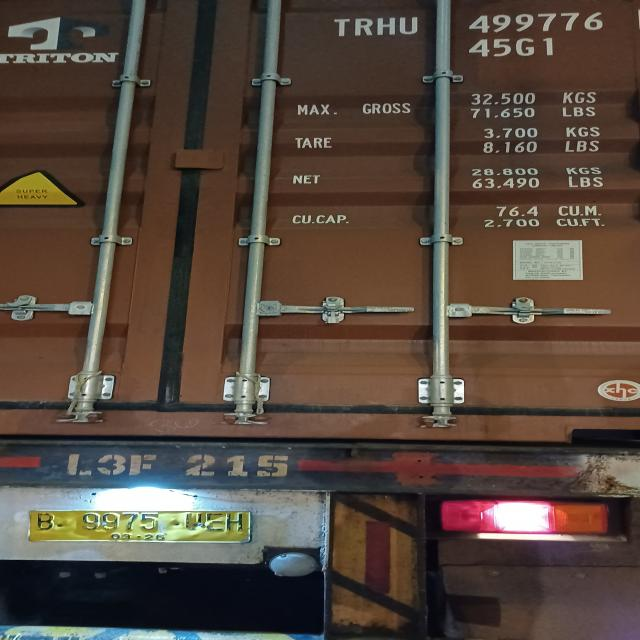seal: (314, 300, 349, 327)
